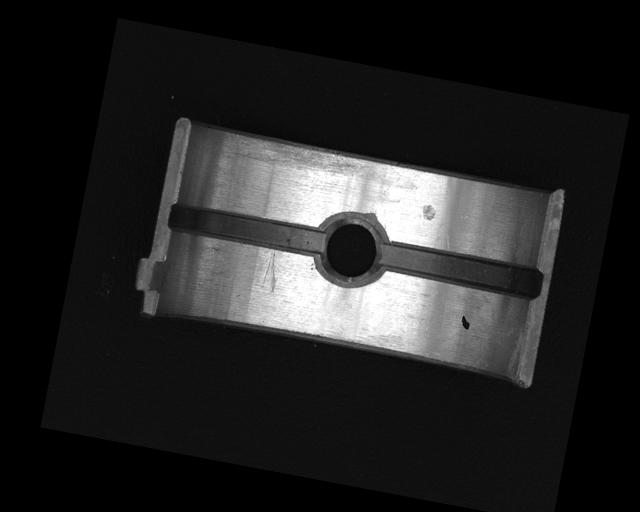blot: (459, 314, 472, 330)
bruise: (420, 203, 438, 222)
gap: (374, 237, 544, 301), (166, 199, 324, 258)
hole: (309, 206, 391, 293)
nick: (258, 247, 284, 296)
scratch: (225, 130, 377, 184)
